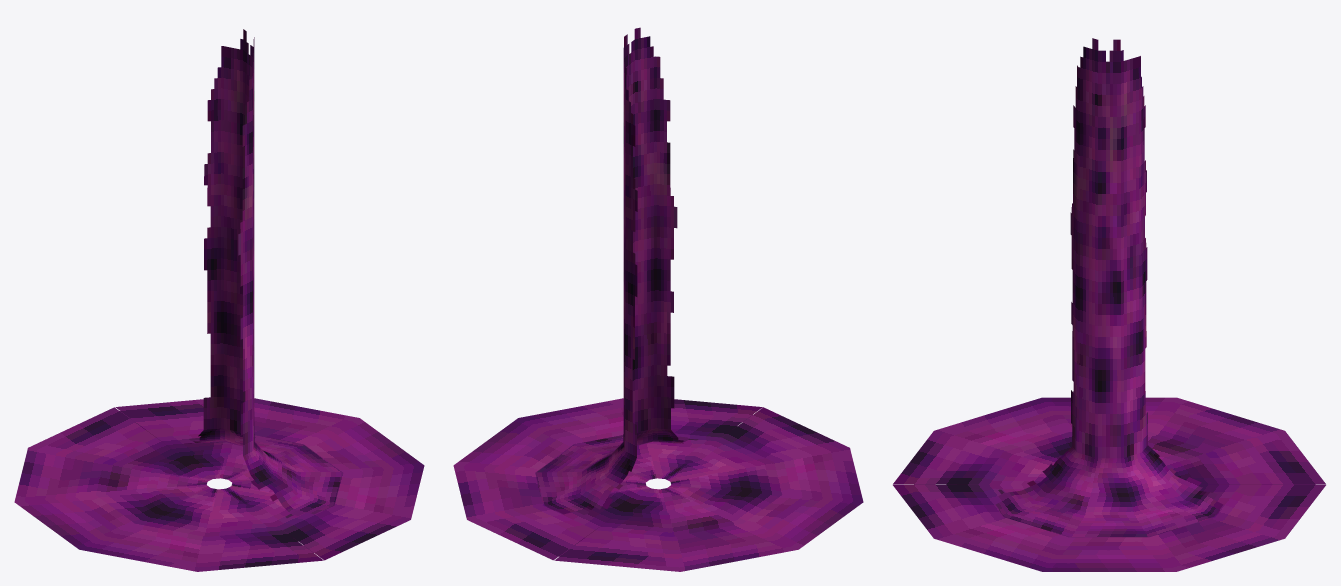
File: eff_enem_MA_Duon_Kagemusi2_pori_S08_M.obj
3 renders of one model, left to right at view 1: azimuth 30°, elevation 25°; view 2: azimuth 150°, elevation 25°; view 3: azimuth 270°, elevation 25°, orthographic. The views are drawn at different scales.
Parts seen in each view (by area): view 1: polygon0, polygon1; view 2: polygon0, polygon1; view 3: polygon1, polygon0.
Part boxes in pixels (box(x1,y1,x2,y2)): polygon0: box(14, 398, 424, 571); polygon1: box(182, 29, 342, 518); polygon0: box(453, 398, 863, 571); polygon1: box(535, 27, 698, 514); polygon1: box(995, 38, 1223, 537); polygon0: box(893, 397, 1325, 571).
Size of the model in its own units: 7.39 by 9.3 by 7.77.
2 materials, 2 textured.
